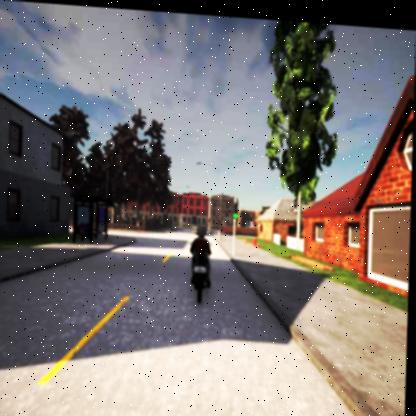motobike: (190, 221, 215, 301)
